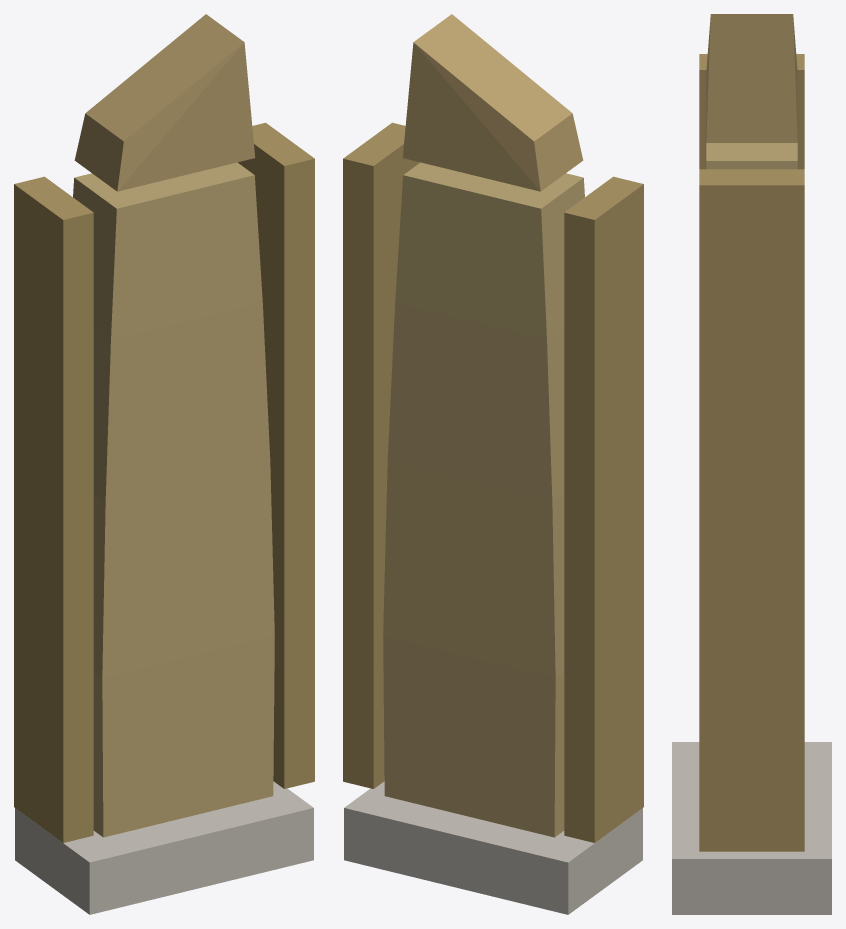
The picture shows the model from 3 angles, left to right: view 1: azimuth 30°, elevation 25°; view 2: azimuth 150°, elevation 25°; view 3: azimuth 270°, elevation 25°; orthographic projection. The views are drawn at different scales.
Visible parts, largest first — view 1: part1, part3, part4, part0, part2; view 2: part1, part3, part4, part0, part2; view 3: part4, part0, part2, part1, part3.
Part boxes in pixels (x1,y1,x2,y2): part1: (73,162,274,837); part3: (14,176,93,842); part4: (238,122,314,788); part0: (15,781,313,914); part2: (74,14,255,191); part1: (383,162,584,837); part3: (564,176,643,842); part4: (343,122,419,788); part0: (344,781,642,914); part2: (402,14,583,191); part4: (699,169,804,851); part0: (672,742,831,914); part2: (706,14,797,142); part1: (705,102,798,169); part3: (699,54,804,169).
Size of the model in its own units: 0.9048 by 2.81 by 0.465.
